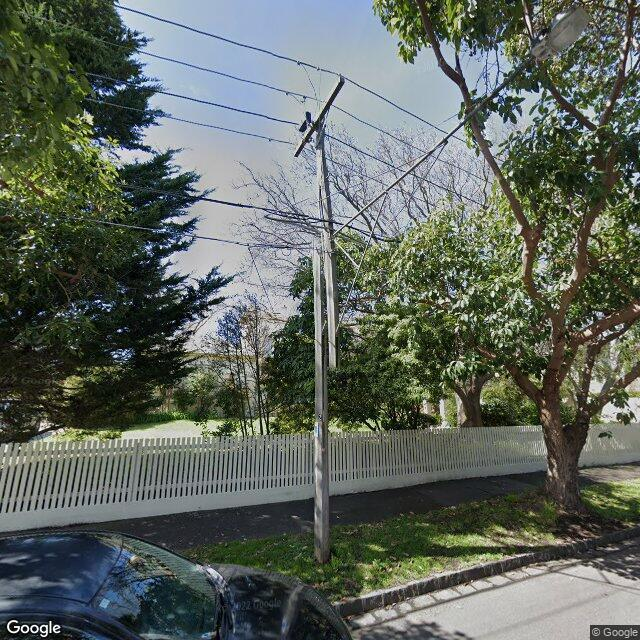crossarm: (269, 59, 346, 158)
streetlight: (331, 7, 592, 238)
timber-pole: (314, 124, 339, 561)
